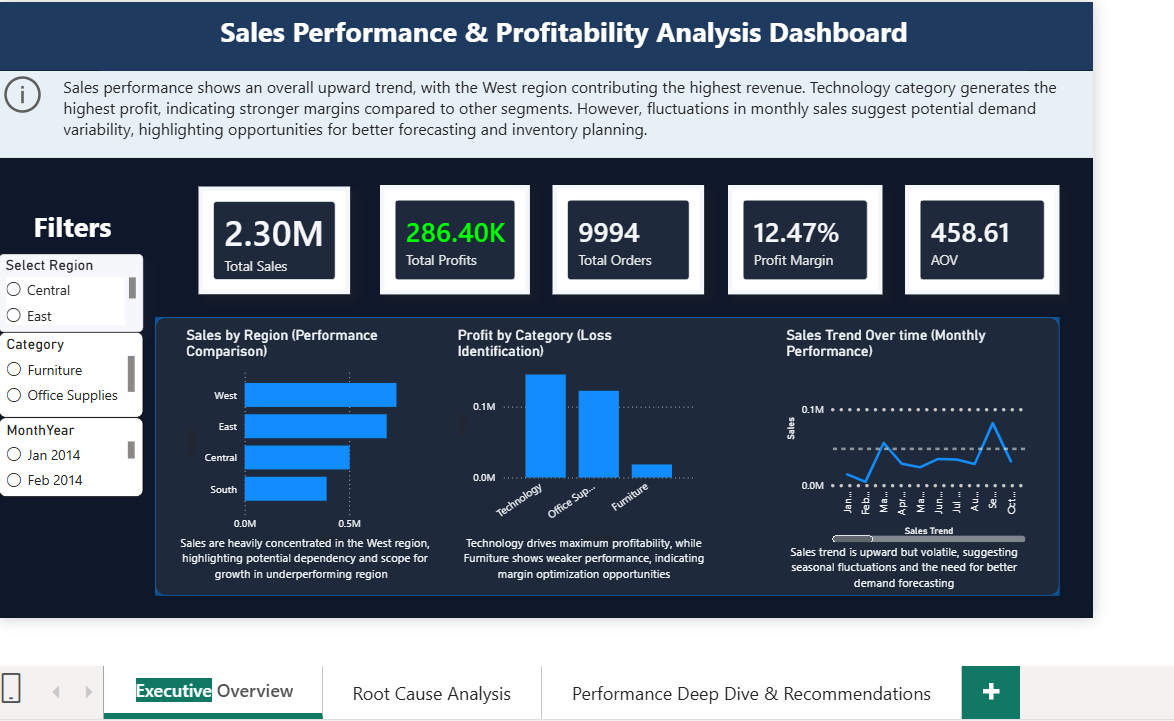

Layout of this report page (visuals, bound fields, positions):
{"tool":"powerbi","page":{"name":"Executive Overview ","canvas":[1280,720],"ordinal":0},"visuals":[{"type":"cardVisual","fields":{"Data":["Sum(Sample - Superstore.Sales)"]},"box":[233.3,215.8,177.2,126.3],"z":0},{"type":"listSlicer","title":"Select Region","fields":{"Values":["Sample - Superstore.Region"]},"box":[0,294.7,168.4,91.2],"z":1000},{"type":"shape","box":[182.5,368.4,1057.9,326.3],"z":2000},{"type":"clusteredBarChart","title":"Sales by Region (Performance Comparison)","fields":{"Category":["Sample - Superstore.Region"],"Y":["Sum(Sample - Superstore.Sales)"]},"box":[214,378.9,287.7,257.9],"z":3000},{"type":"clusteredColumnChart","title":" Profit by Category (Loss Identification)","fields":{"Category":["Sample - Superstore.Category"],"Y":["Sum(Sample - Superstore.Profit)"]},"box":[531.6,378.9,287.7,257.9],"z":4000},{"type":"lineChart","title":"Sales Trend Over time (Monthly Performance)","fields":{"Y":["Sum(Sample - Superstore.Sales)"],"Category":["Sample - Superstore.MonthYear"]},"box":[915.8,378.9,289.5,257.9],"z":5000},{"type":"listSlicer","fields":{"Values":["Sample - Superstore.Category"]},"box":[0,386,168.4,100],"z":6000},{"type":"listSlicer","fields":{"Values":["Sample - Superstore.MonthYear"]},"box":[0,486,168.4,93],"z":7000},{"type":"shape","box":[0,0,1280,80],"z":8000},{"type":"textbox","box":[120,6.7,1083.3,73.3],"z":9000},{"type":"shape","box":[0,80,1280,101.7],"z":10000},{"type":"textbox","box":[70,80,1210,86.7],"z":11000},{"type":"actionButton","box":[0,80,56.7,55],"z":12000},{"type":"cardVisual","fields":{"Data":["Sum(Sample - Superstore.Profit)"]},"box":[445.6,214,175.4,128.1],"z":13000},{"type":"cardVisual","fields":{"Data":["CountNonNull(Sample - Superstore.Order ID)"]},"box":[647.4,214,177.2,128.1],"z":14000},{"type":"cardVisual","fields":{"Data":["Sample - Superstore.Profit Margin"]},"box":[852.6,214,180.7,128.1],"z":15000},{"type":"cardVisual","fields":{"Data":["Sample - Superstore.AOV"]},"box":[1059.6,214,180.7,128.1],"z":16000},{"type":"textbox","box":[207,617.5,301.8,68.4],"z":17000},{"type":"textbox","box":[533.3,617.5,301.8,66.7],"z":18000},{"type":"textbox","box":[914,628.1,289.5,66.7],"z":19000},{"type":"textbox","box":[3.5,235.1,164.9,59.6],"z":20000}]}

Visuals, with their boxes on the page's 1280x720 design canvas (x1, y1, x2, y2). These are canvas units, not pixel positions in the 1174x721 screenshot, which may show the page scaled, cropped or inside an application window:
cardVisual - Sum(Sample - Superstore.Sales): (left=233, top=216, right=410, bottom=342)
"Select Region" listSlicer: (left=0, top=295, right=168, bottom=386)
shape: (left=182, top=368, right=1240, bottom=695)
"Sales by Region (Performance Comparison)" clusteredBarChart: (left=214, top=379, right=502, bottom=637)
" Profit by Category (Loss Identification)" clusteredColumnChart: (left=532, top=379, right=819, bottom=637)
"Sales Trend Over time (Monthly Performance)" lineChart: (left=916, top=379, right=1205, bottom=637)
listSlicer - Sample - Superstore.Category: (left=0, top=386, right=168, bottom=486)
listSlicer - Sample - Superstore.MonthYear: (left=0, top=486, right=168, bottom=579)
shape: (left=0, top=0, right=1280, bottom=80)
textbox: (left=120, top=7, right=1203, bottom=80)
shape: (left=0, top=80, right=1280, bottom=182)
textbox: (left=70, top=80, right=1280, bottom=167)
actionButton: (left=0, top=80, right=57, bottom=135)
cardVisual - Sum(Sample - Superstore.Profit): (left=446, top=214, right=621, bottom=342)
cardVisual - CountNonNull(Sample - Superstore.Order ID): (left=647, top=214, right=825, bottom=342)
cardVisual - Sample - Superstore.Profit Margin: (left=853, top=214, right=1033, bottom=342)
cardVisual - Sample - Superstore.AOV: (left=1060, top=214, right=1240, bottom=342)
textbox: (left=207, top=618, right=509, bottom=686)
textbox: (left=533, top=618, right=835, bottom=684)
textbox: (left=914, top=628, right=1204, bottom=695)
textbox: (left=4, top=235, right=168, bottom=295)
